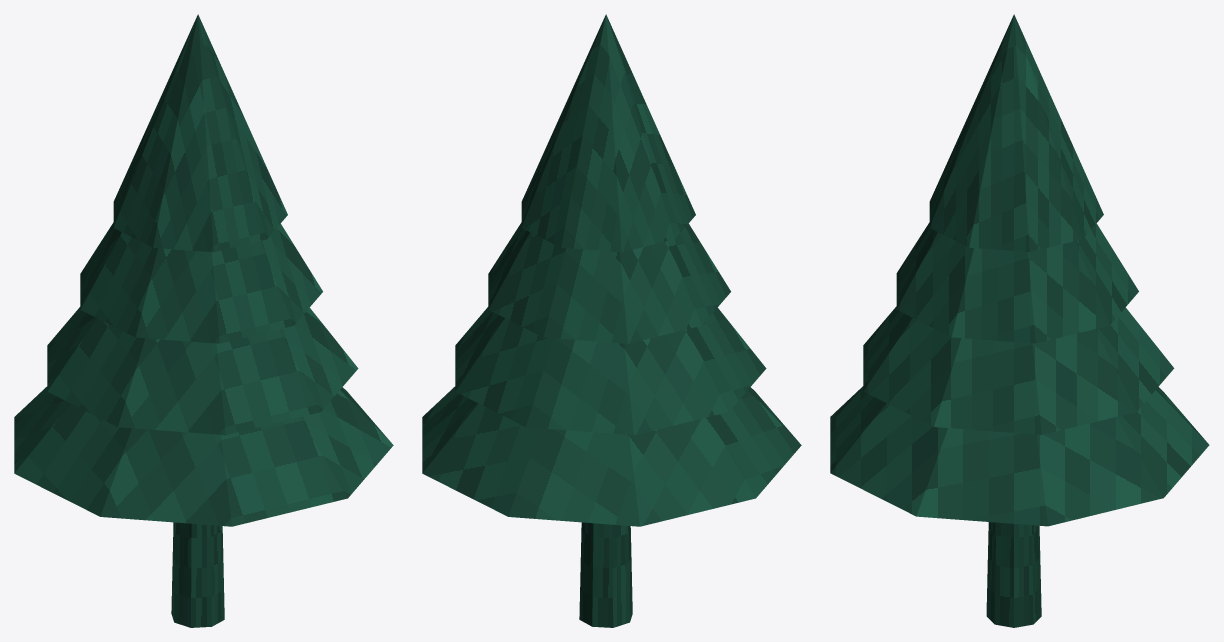
The model's file is pine_17.glb.
The picture shows the model from 3 angles, left to right: view 1: azimuth 30°, elevation 25°; view 2: azimuth 150°, elevation 25°; view 3: azimuth 270°, elevation 25°; orthographic projection.
Parts seen in each view (by area): view 1: Needles, Needles.001, Needles.003, Needles.002, Trunk; view 2: Needles, Needles.001, Needles.003, Needles.002, Trunk; view 3: Needles, Needles.001, Needles.003, Needles.002, Trunk.
Boxes of the visible parts, x1,y1,x2,y2 form: Needles: (14, 386, 393, 526); Needles.001: (47, 307, 358, 435); Needles.003: (113, 14, 287, 252); Needles.002: (80, 222, 322, 343); Trunk: (171, 522, 224, 627); Needles: (422, 386, 801, 526); Needles.001: (455, 307, 766, 435); Needles.003: (521, 14, 695, 252); Needles.002: (488, 222, 730, 343); Trunk: (579, 522, 632, 627); Needles: (830, 386, 1209, 526); Needles.001: (863, 306, 1174, 434); Needles.003: (929, 14, 1103, 252); Needles.002: (896, 222, 1138, 343); Trunk: (986, 522, 1041, 627).
Size of the model in its own units: 2.79 by 4.82 by 2.75.
1 material, 1 textured.
